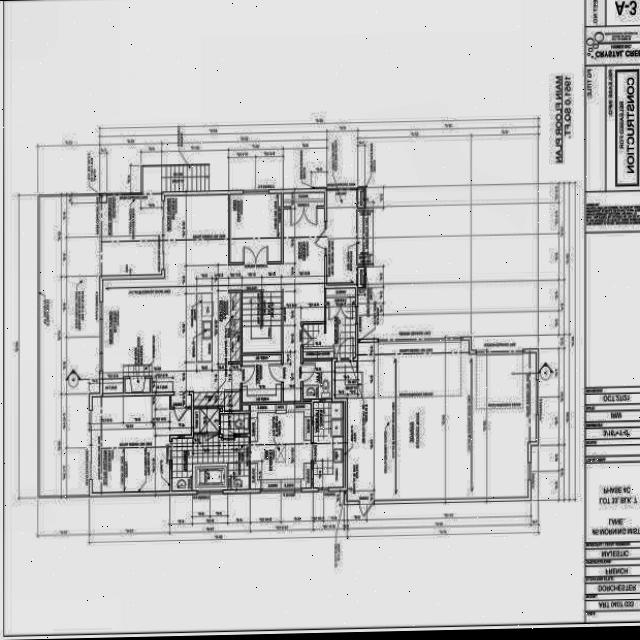room: (170, 403, 313, 490), (90, 394, 193, 491), (230, 192, 281, 262), (303, 303, 355, 358), (314, 401, 343, 487), (242, 353, 281, 402), (303, 359, 332, 398), (220, 412, 249, 433)
